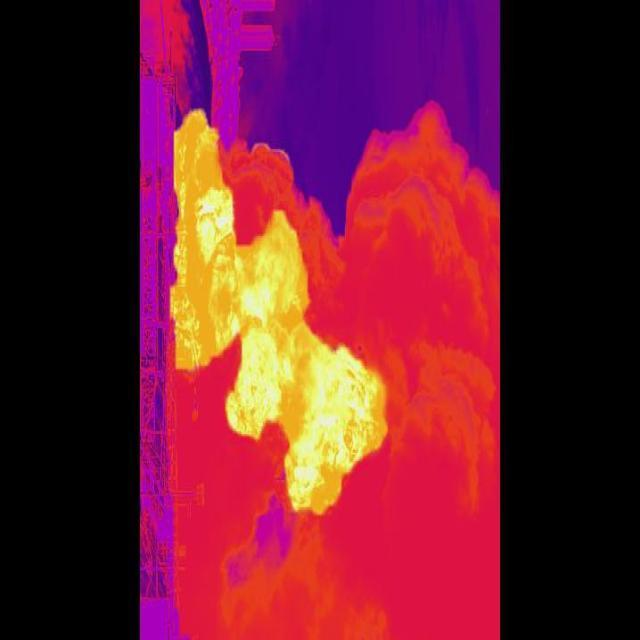fire: (173, 109, 390, 520)
